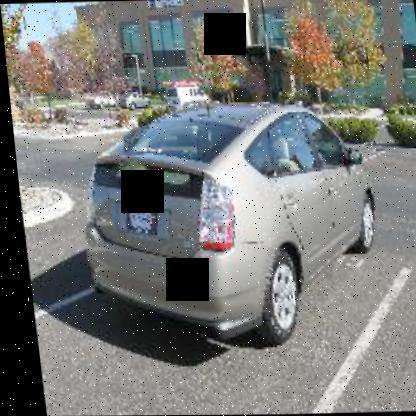not_emergency: (49, 83, 415, 350)
